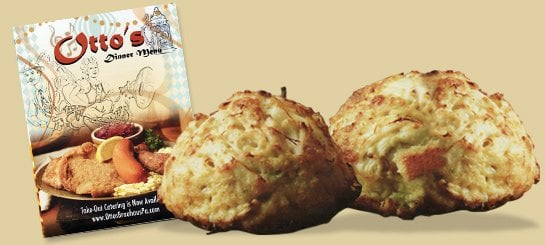sandwich: (327, 68, 540, 220)
